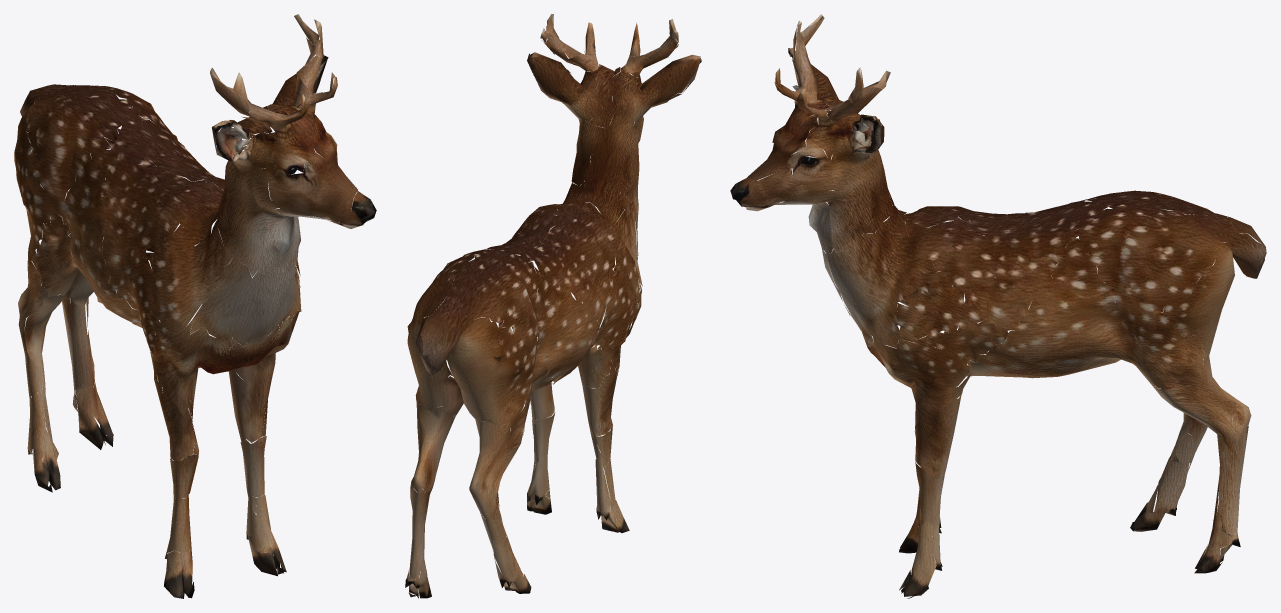
The model's file is deer.glb.
3 renders of one model, left to right at view 1: azimuth 30°, elevation 25°; view 2: azimuth 150°, elevation 25°; view 3: azimuth 270°, elevation 25°, orthographic. The views are drawn at different scales.
Parts seen in each view (by area): view 1: tripo_node_726bc7bf-a75b-414e-82be-194da3c86e8b; view 2: tripo_node_726bc7bf-a75b-414e-82be-194da3c86e8b; view 3: tripo_node_726bc7bf-a75b-414e-82be-194da3c86e8b.
Part boxes in pixels (x1=…): tripo_node_726bc7bf-a75b-414e-82be-194da3c86e8b: x1=14, y1=14, x2=376, y2=598; tripo_node_726bc7bf-a75b-414e-82be-194da3c86e8b: x1=405, y1=14, x2=701, y2=598; tripo_node_726bc7bf-a75b-414e-82be-194da3c86e8b: x1=730, y1=14, x2=1266, y2=598.
Size of the model in its own units: 0.3528 by 1.2 by 1.1.
Materials: 1 (1 with a texture image).
